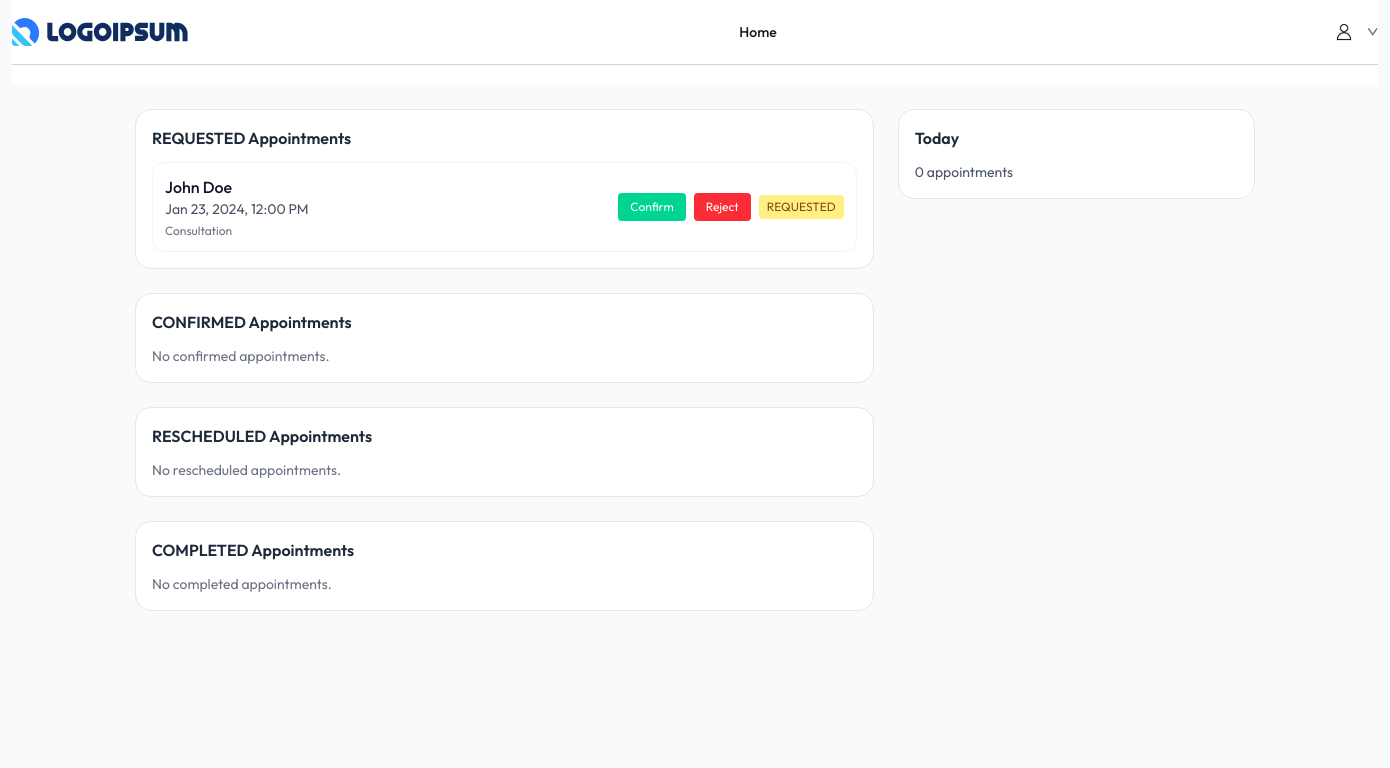
it: Appointment Management Flow › Provider Appointment Actions › should allow provider to confirm requested appointments
expect the text "REQUESTED" is shown: met, box [759, 195, 844, 219]
Click the button "Confirm": click(652, 207) [618, 193, 686, 221]
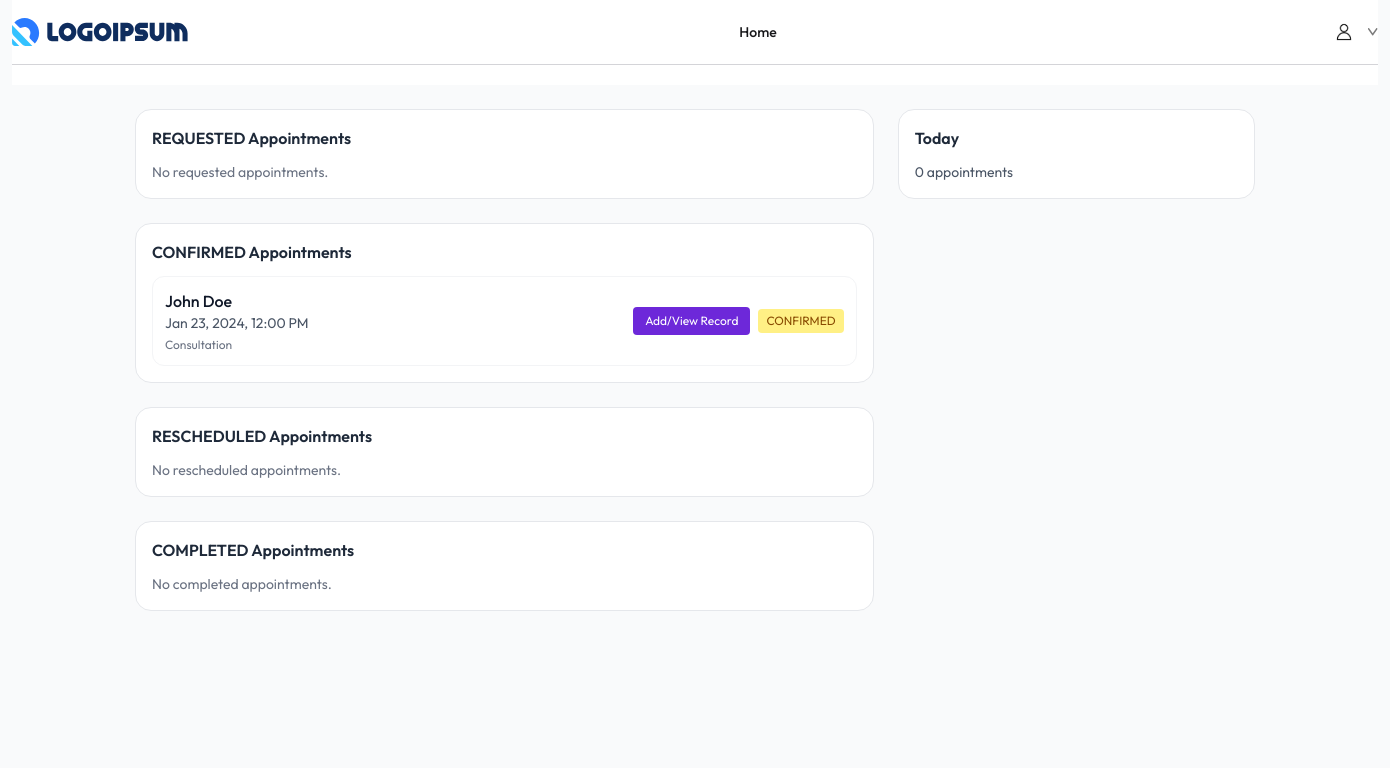
expect the text "CONFIRMED" is shown: met, box [758, 309, 844, 333]
